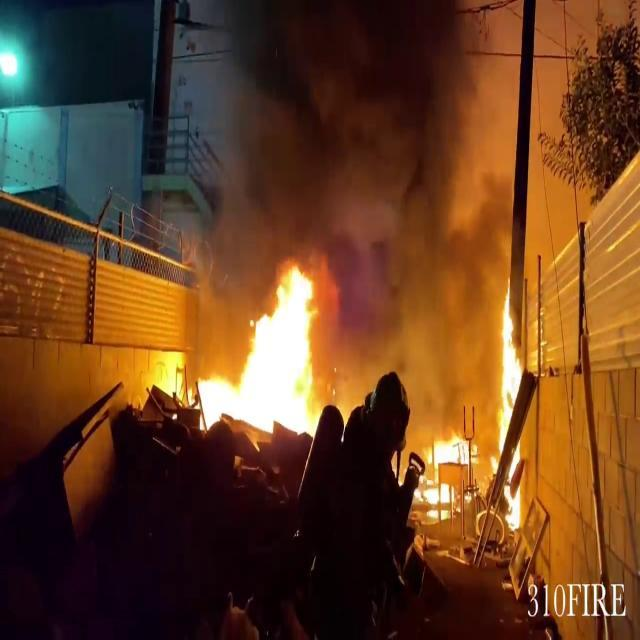Fire: (188, 261, 326, 440), (489, 278, 528, 533), (418, 421, 479, 504)
Smoke: (192, 6, 522, 367)
